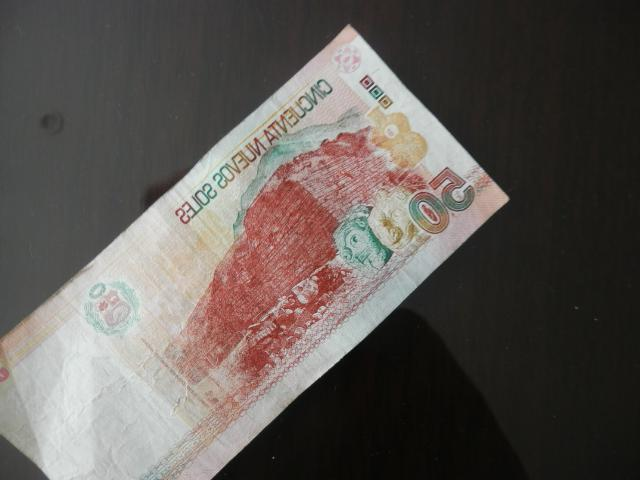B50: (1, 25, 511, 478)
